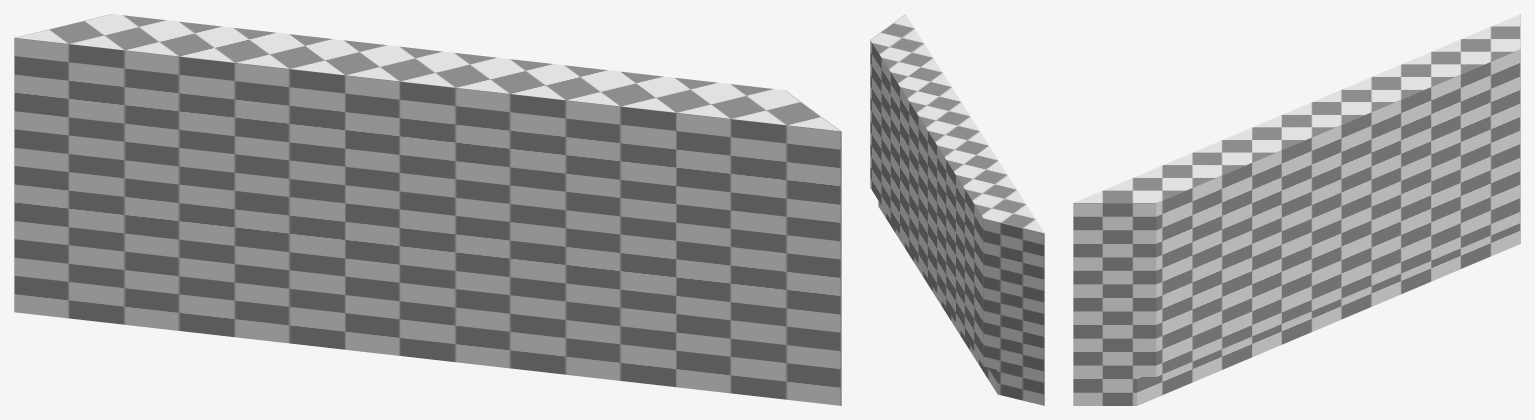
File: CentralWall.fbx
The picture shows the model from 3 angles, left to right: view 1: azimuth 30°, elevation 25°; view 2: azimuth 150°, elevation 25°; view 3: azimuth 270°, elevation 25°; orthographic projection. The views are drawn at different scales.
Visible parts, largest first — view 1: CentralWall; view 2: CentralWall; view 3: CentralWall.
Boxes of the visible parts, <box> form: CentralWall: <box>14,14,841,405</box>; CentralWall: <box>870,14,1044,405</box>; CentralWall: <box>1073,14,1520,405</box>.
Size of the model in its own units: 276 by 276 by 138.
1 material, 1 textured.
